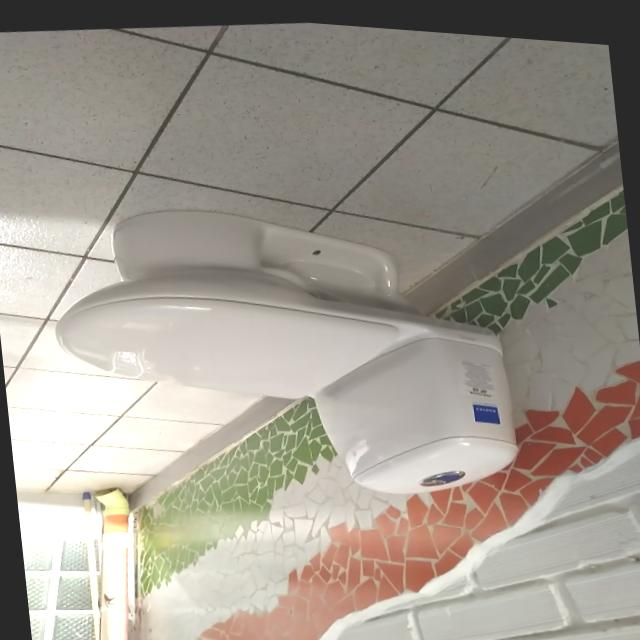toilet: (41, 166, 523, 530)
